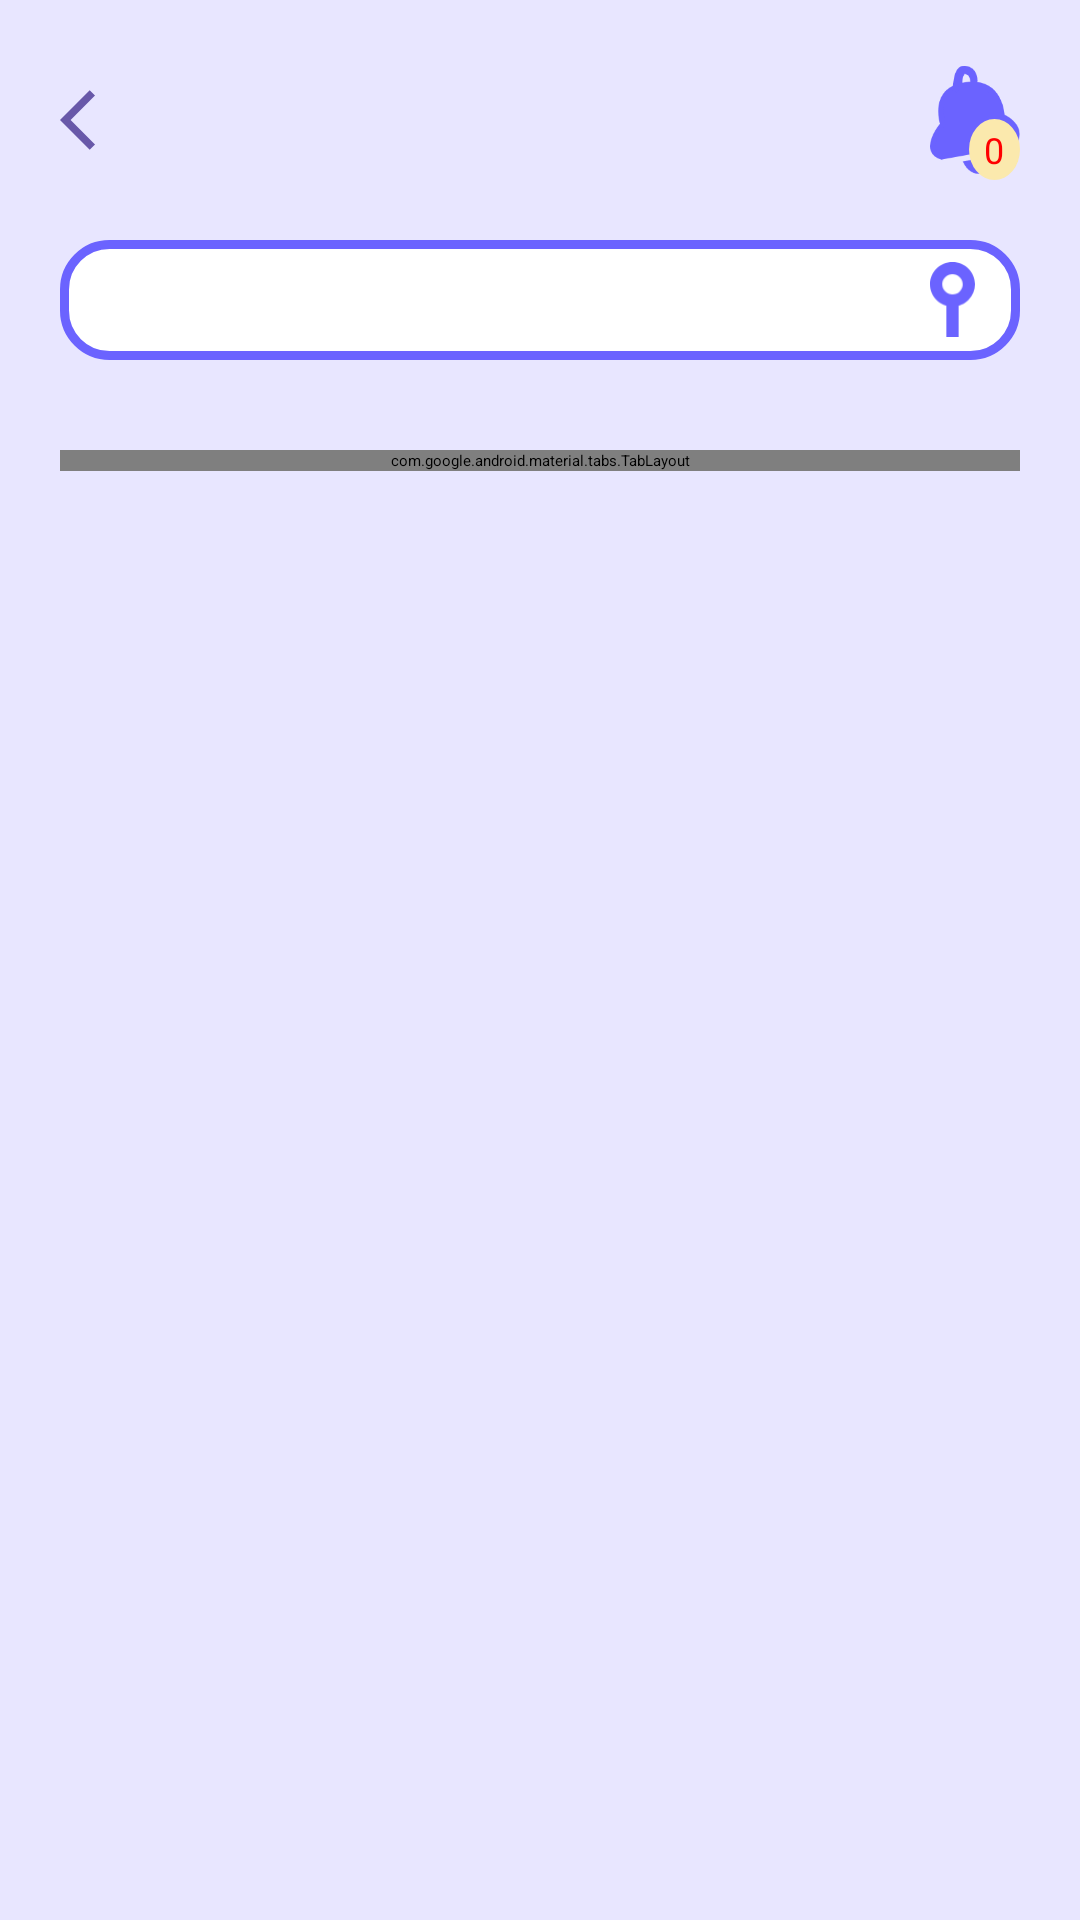

Screen size 1080×1920. Icon name, then its box in pixels as (left=x1, top=y1, right=x2, bottom=y2):
back: (left=60, top=90, right=95, bottom=150)
notification: (left=930, top=66, right=1020, bottom=180)
